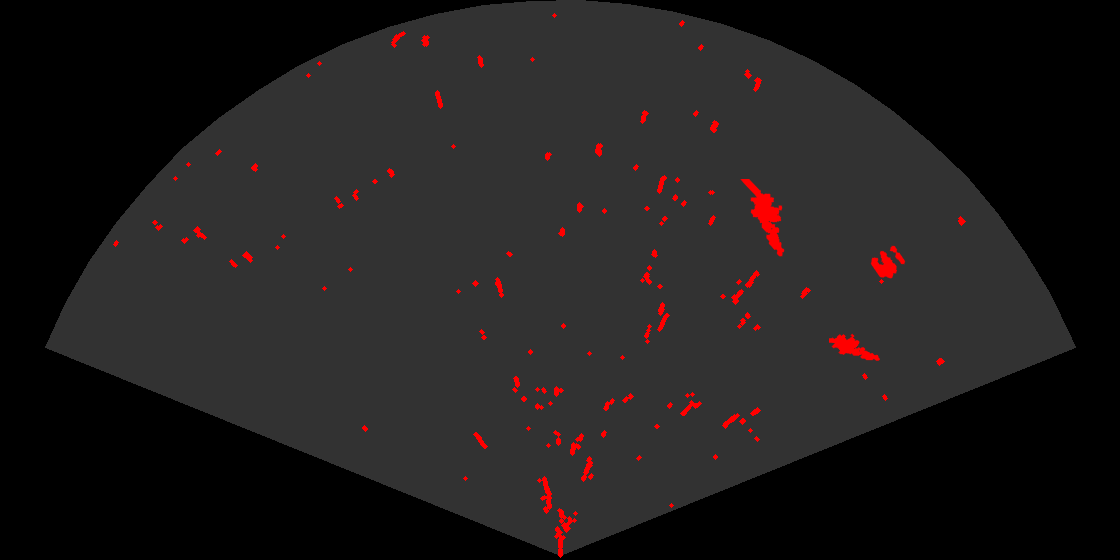ball: (869, 244, 907, 280)
frogman: (739, 179, 786, 258), (829, 332, 880, 362)
